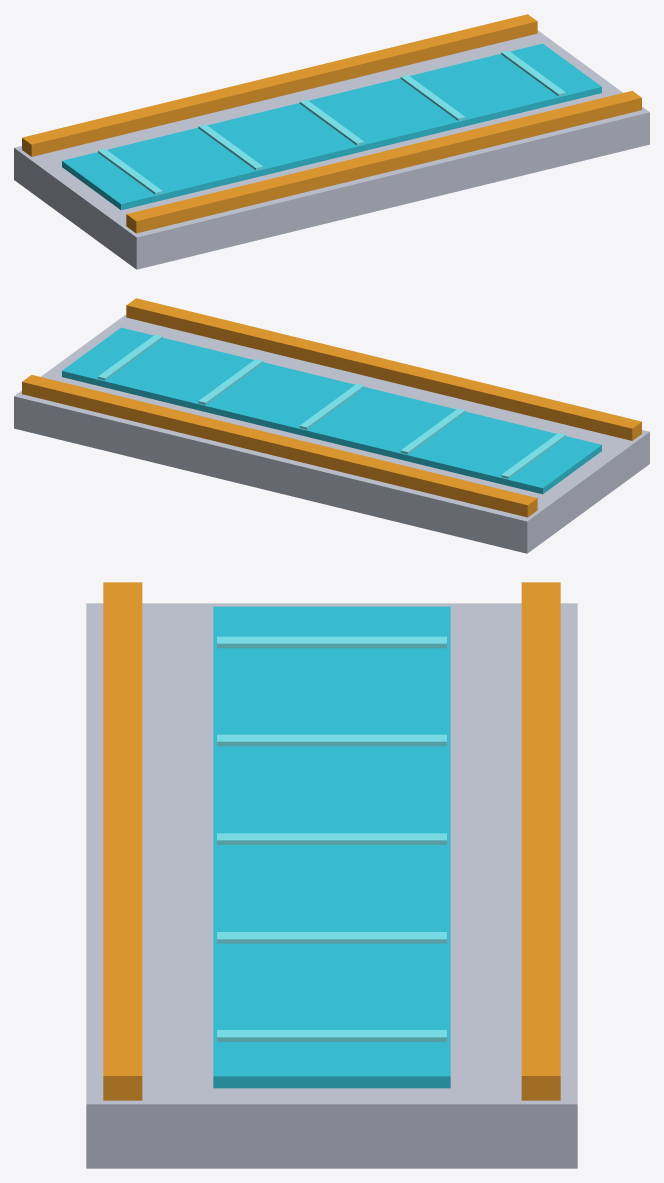
The model's file is star_garden_bridge.obj.
3 renders of one model, top to bottom at view 1: azimuth 30°, elevation 25°; view 2: azimuth 150°, elevation 25°; view 3: azimuth 270°, elevation 25°, orthographic. The views are drawn at different scales.
Parts seen in each view (by area): view 1: star_garden_bridge; view 2: star_garden_bridge; view 3: star_garden_bridge.
Boxes of the visible parts, <box> form: star_garden_bridge: <box>14,14,649,269</box>; star_garden_bridge: <box>14,298,649,553</box>; star_garden_bridge: <box>86,582,577,1168</box>.
Size of the model in its own units: 7 by 0.58 by 2.9.
